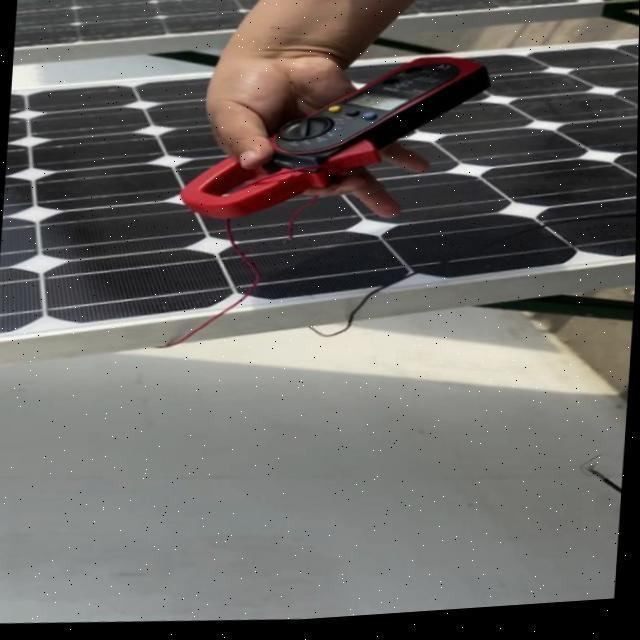Normal Solar Panel: (190, 24, 640, 364), (0, 61, 265, 375)
